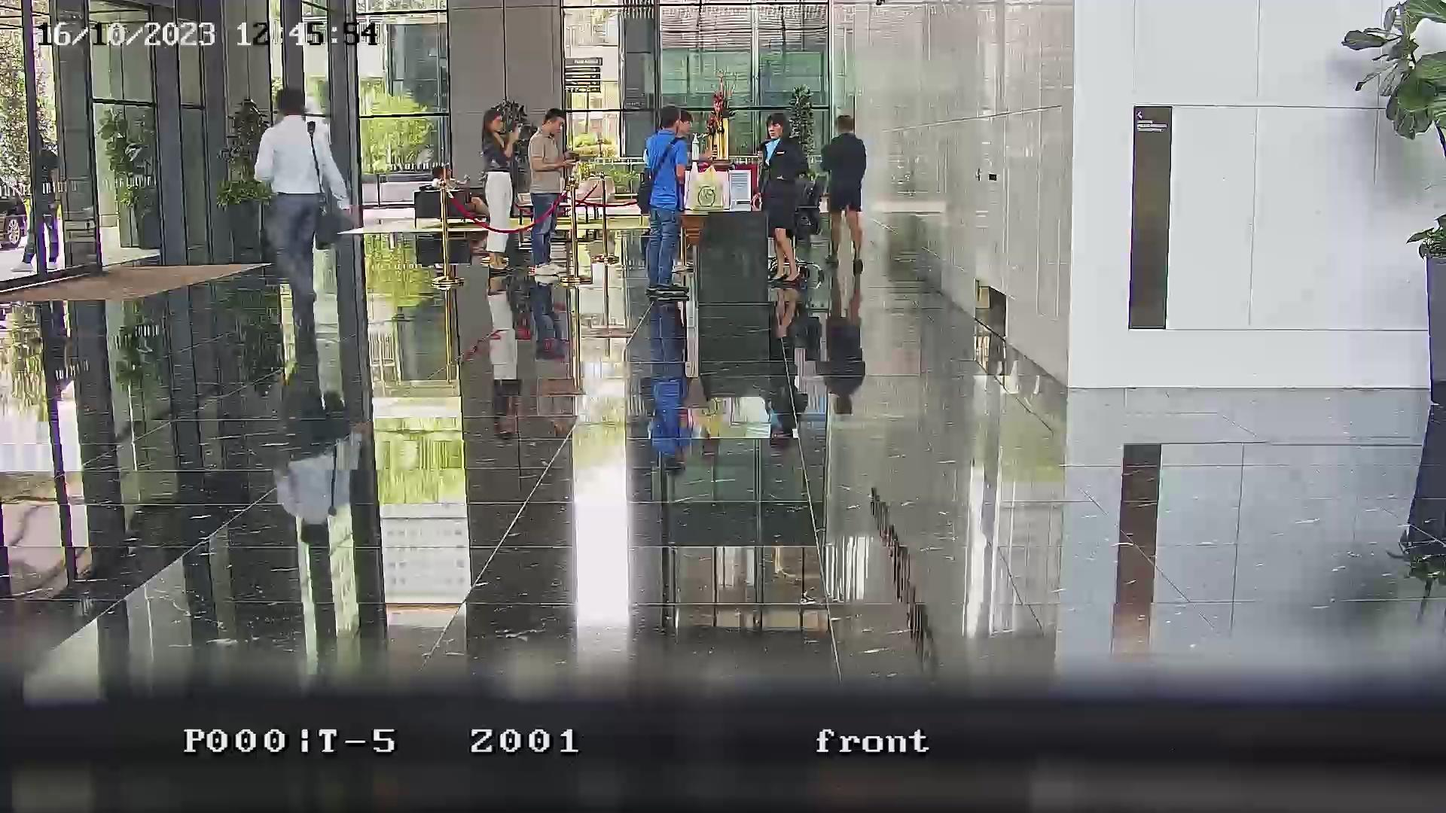person: (253, 87, 351, 346), (641, 107, 697, 294), (757, 113, 809, 283), (527, 108, 579, 273), (819, 113, 868, 264), (480, 102, 523, 232), (22, 149, 66, 276)
